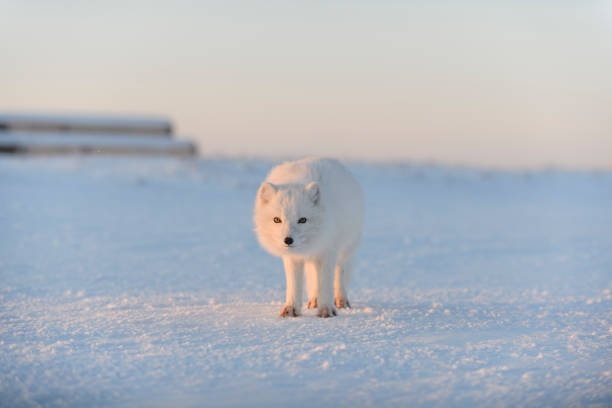arcticfox: (260, 190, 295, 248)
